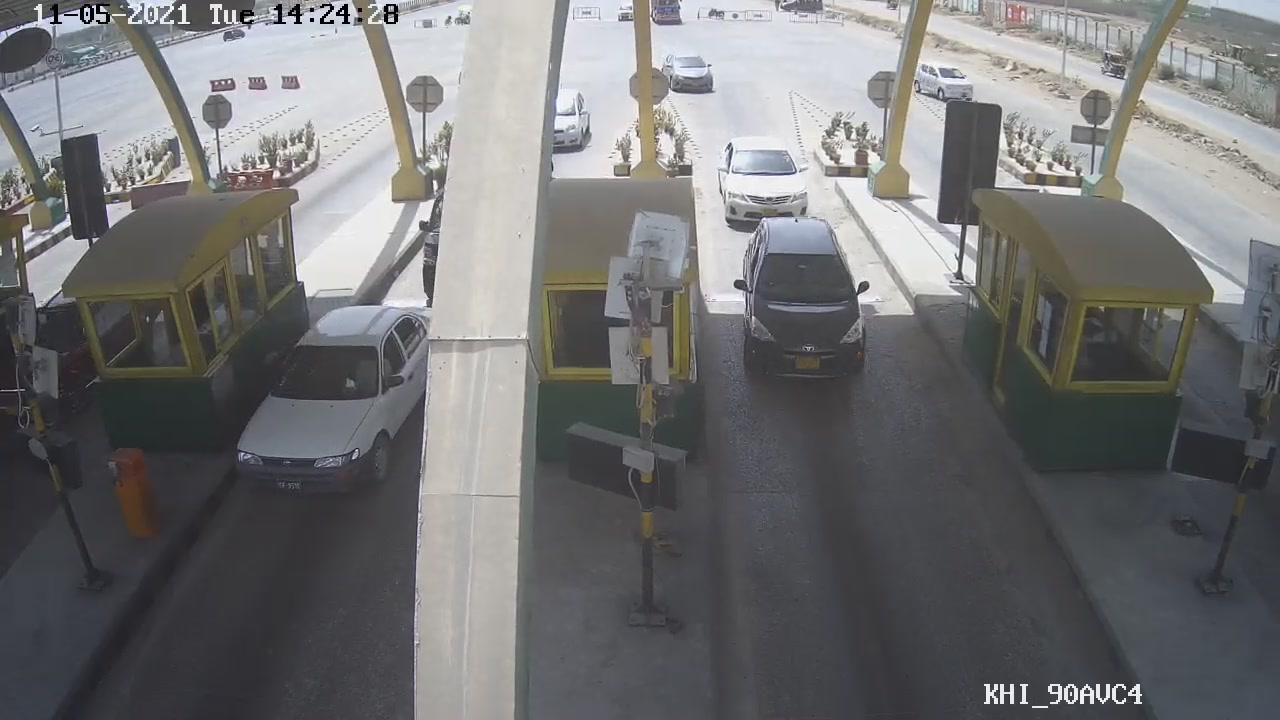F1: (731, 211, 870, 392)
